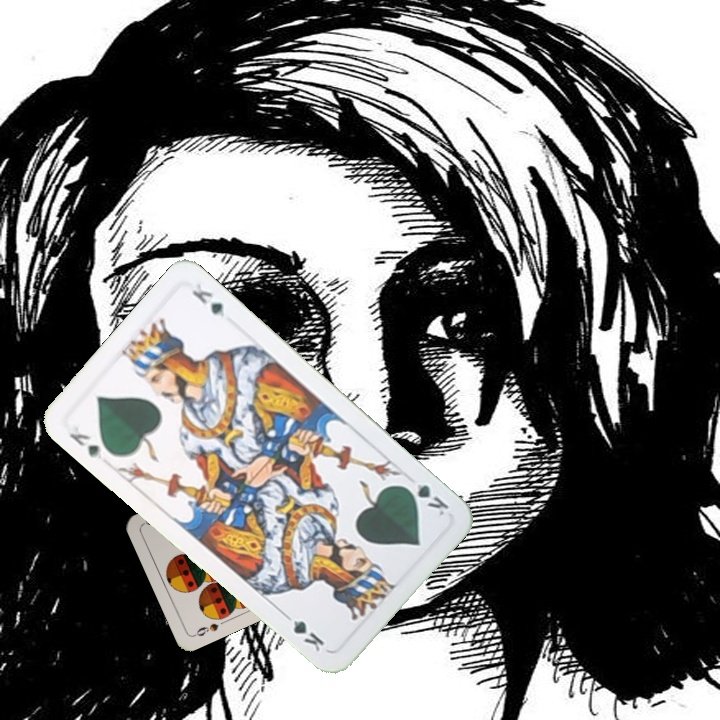GK: (398, 479, 453, 519), (64, 428, 106, 462)
S9: (190, 619, 221, 639)
